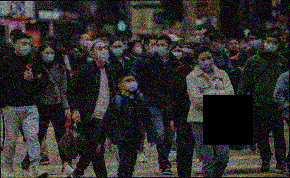with_mask: (198, 55, 214, 71), (96, 44, 110, 62), (124, 77, 139, 93), (18, 41, 32, 57), (41, 50, 56, 64), (155, 42, 169, 57), (264, 38, 278, 53), (111, 43, 124, 57), (248, 36, 261, 49), (182, 52, 194, 66), (171, 48, 183, 61), (217, 39, 228, 53), (147, 42, 157, 55), (103, 37, 112, 49), (134, 43, 143, 55), (83, 37, 91, 48), (204, 34, 212, 44), (239, 40, 246, 49), (123, 40, 128, 51)
without_mask: (228, 40, 239, 52)
